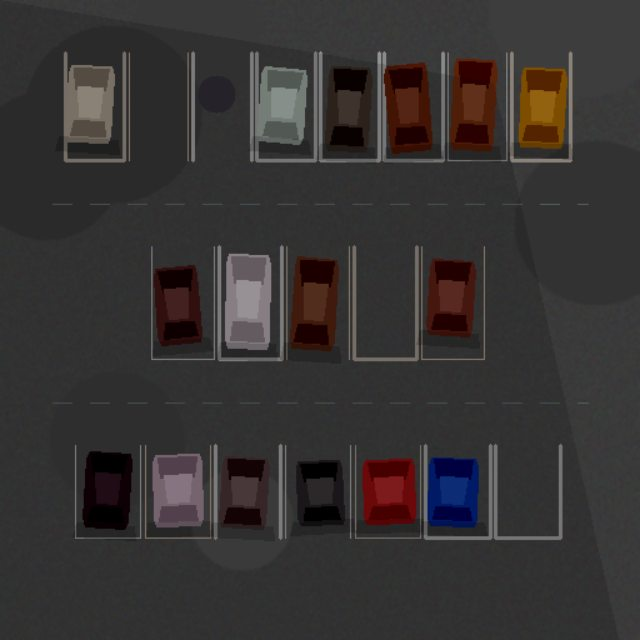space-empty: (354, 246, 416, 359), (129, 53, 187, 160), (193, 53, 251, 160), (495, 445, 560, 537)
space-occupied: (151, 246, 214, 359), (286, 246, 349, 359), (421, 246, 484, 359), (219, 246, 281, 359), (65, 53, 124, 160), (256, 53, 315, 160), (320, 53, 379, 160), (384, 53, 443, 160), (447, 53, 506, 160), (511, 53, 570, 160), (75, 445, 140, 537), (145, 445, 210, 537), (215, 445, 280, 537), (285, 445, 350, 537), (355, 445, 420, 537), (425, 445, 490, 537)
